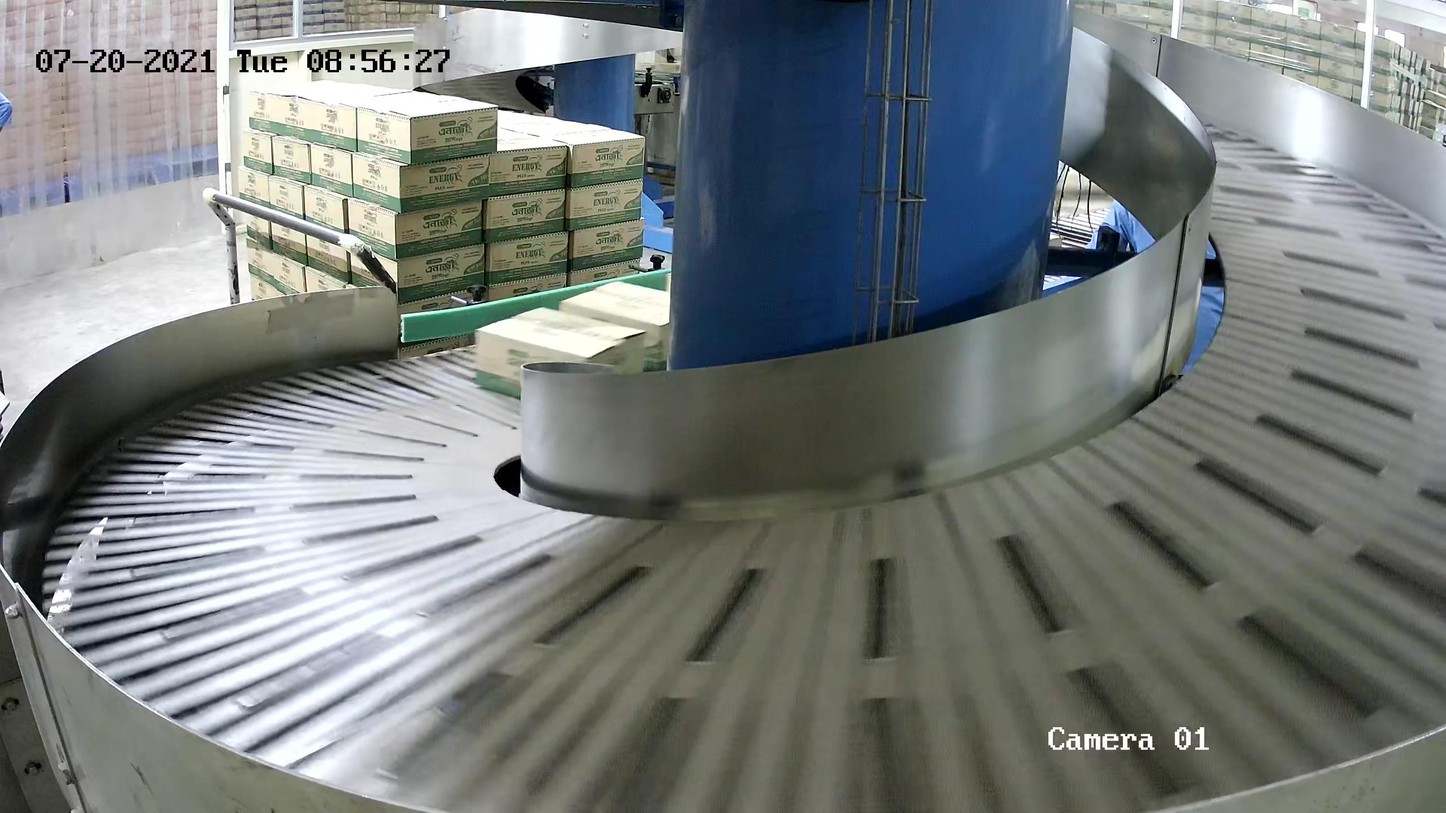Box: (474, 306, 648, 401), (559, 280, 671, 372)
